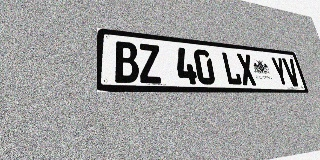0: (193, 49, 216, 85)
4: (174, 47, 198, 84)
B: (114, 41, 140, 83)
L: (221, 52, 243, 85)
V: (282, 58, 301, 87)
X: (236, 53, 257, 86)
Y: (270, 57, 290, 86)
Z: (138, 43, 163, 84)
